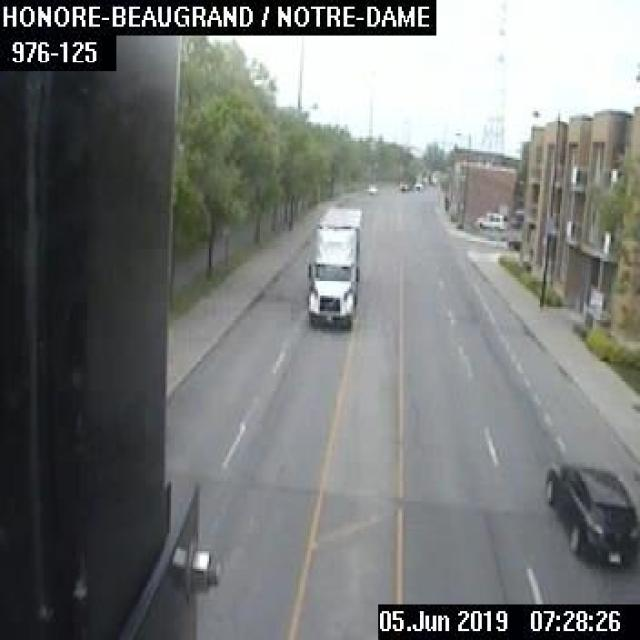vehicle: (542, 462, 638, 564), (304, 208, 362, 330), (475, 210, 506, 230), (365, 184, 377, 194)
